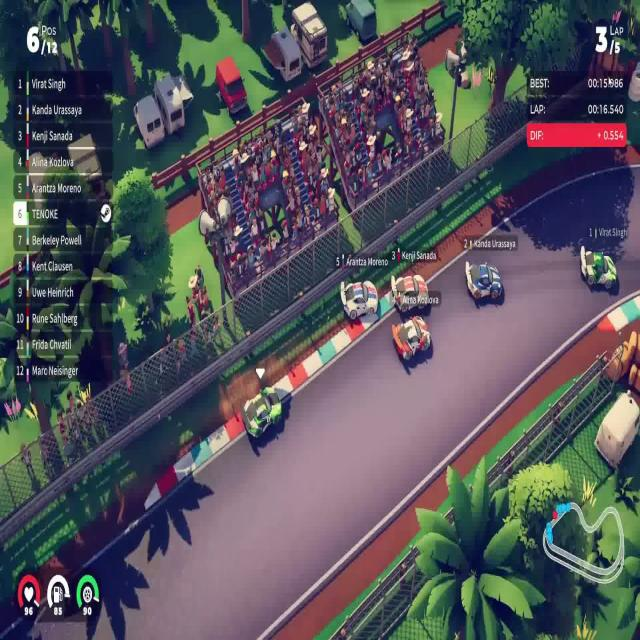car: (241, 385, 283, 442), (391, 314, 431, 362), (579, 244, 618, 291), (339, 278, 378, 322), (464, 259, 502, 303), (390, 272, 429, 314)
